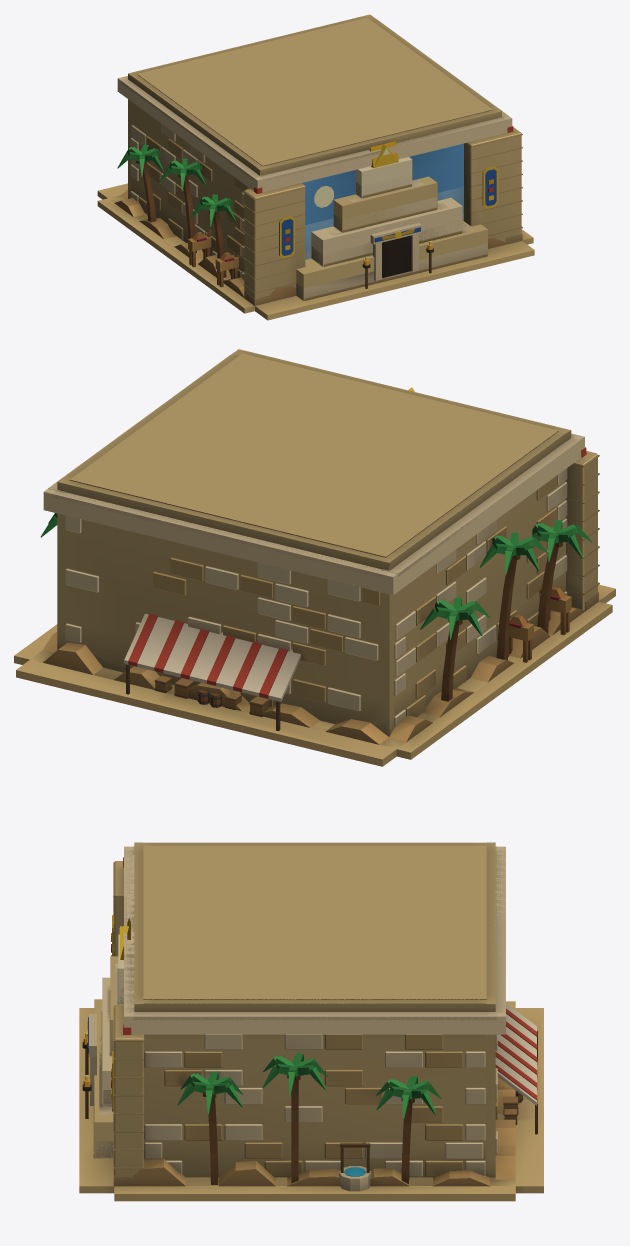
File: GizaPyramidsFloor.fbx
The picture shows the model from 3 angles, top to bottom: view 1: azimuth 30°, elevation 25°; view 2: azimuth 150°, elevation 25°; view 3: azimuth 270°, elevation 25°; orthographic projection. The views are drawn at different scales.
Parts seen in each view (by area): view 1: GZ_S_All, GZ_F_Rings, GZ_F_Smooth, GZ_F_Quiet, GZ_F_Props, GZ_F_Glass; view 2: GZ_F_Rings, GZ_S_All, GZ_F_Quiet, GZ_F_Smooth, GZ_F_Props; view 3: GZ_S_All, GZ_F_Rings, GZ_F_Smooth, GZ_F_Quiet, GZ_F_Props.
Boxes of the visible parts, x1=… form: GZ_S_All: x1=117, y1=16, x2=513, y2=310; GZ_F_Rings: x1=121, y1=14, x2=521, y2=299; GZ_F_Smooth: x1=97, y1=15, x2=534, y2=320; GZ_F_Quiet: x1=98, y1=143, x2=534, y2=314; GZ_F_Props: x1=126, y1=141, x2=522, y2=306; GZ_F_Glass: x1=314, y1=148, x2=432, y2=265; GZ_F_Rings: x1=48, y1=349, x2=597, y2=736; GZ_S_All: x1=30, y1=352, x2=586, y2=756; GZ_F_Quiet: x1=14, y1=584, x2=615, y2=759; GZ_F_Smooth: x1=14, y1=349, x2=615, y2=766; GZ_F_Props: x1=54, y1=515, x2=598, y2=717; GZ_S_All: x1=94, y1=845, x2=515, y2=1193; GZ_F_Rings: x1=95, y1=842, x2=505, y2=1177; GZ_F_Smooth: x1=79, y1=842, x2=543, y2=1201; GZ_F_Quiet: x1=79, y1=1001, x2=543, y2=1193; GZ_F_Props: x1=89, y1=918, x2=517, y2=1191.
Size of the model in its own units: 60 by 20 by 60.
